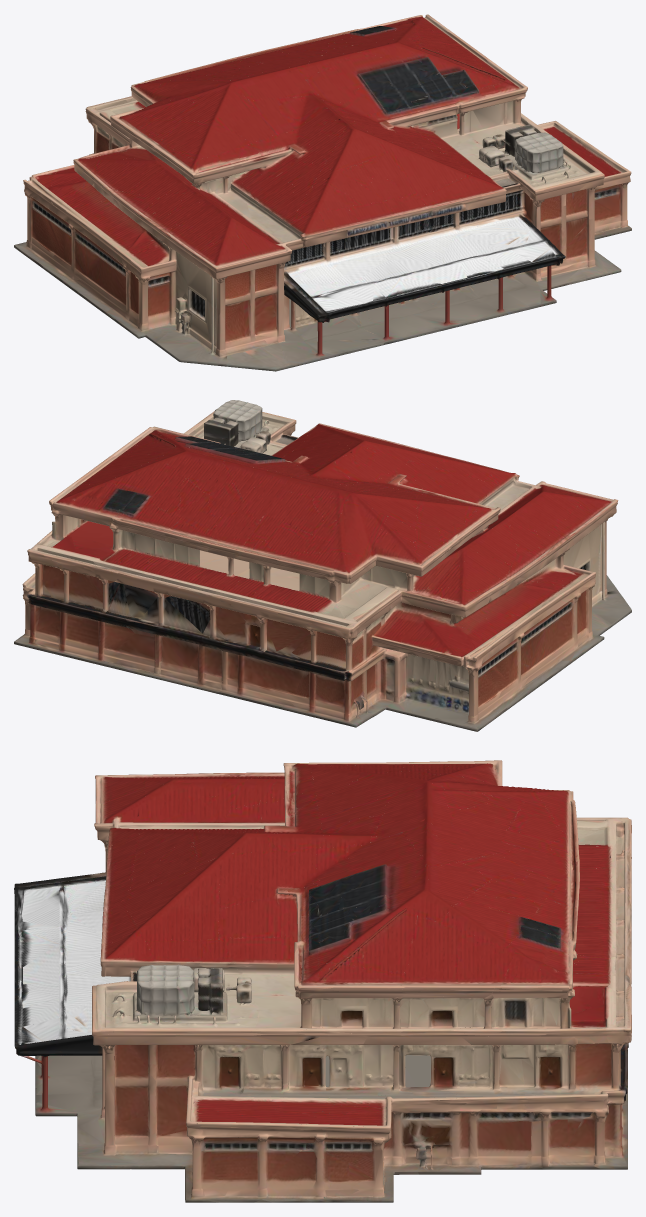
Rendered from dtar.glb.
3 renders of one model, top to bottom at view 1: azimuth 30°, elevation 25°; view 2: azimuth 150°, elevation 25°; view 3: azimuth 270°, elevation 25°, orthographic. The views are drawn at different scales.
Visible parts, largest first — view 1: Meshy_AI_Bangunan_Tunku_Abdul__0814095840_texture.001; view 2: Meshy_AI_Bangunan_Tunku_Abdul__0814095840_texture.001; view 3: Meshy_AI_Bangunan_Tunku_Abdul__0814095840_texture.001.
Part boxes in pixels (bbox=[...]): Meshy_AI_Bangunan_Tunku_Abdul__0814095840_texture.001: bbox=[14, 14, 631, 371]; Meshy_AI_Bangunan_Tunku_Abdul__0814095840_texture.001: bbox=[14, 400, 631, 731]; Meshy_AI_Bangunan_Tunku_Abdul__0814095840_texture.001: bbox=[14, 760, 631, 1202].
Size of the model in its own units: 1.9 by 0.6002 by 1.56.
Materials: 1 (1 with a texture image).
